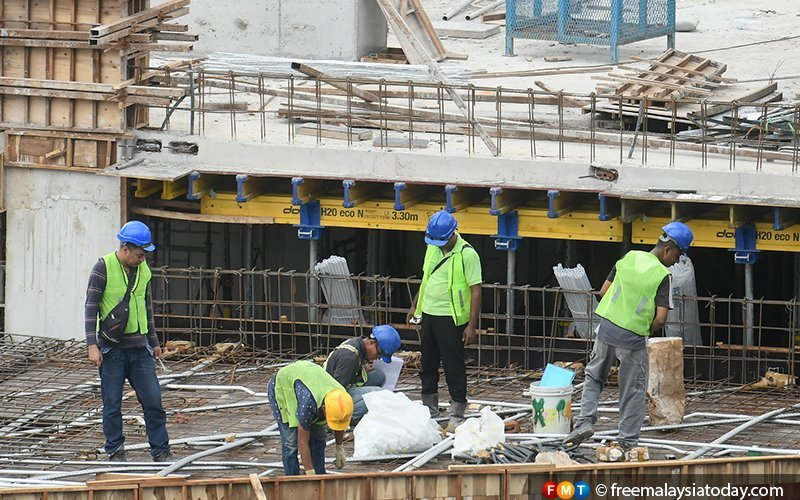Safety Helmet: (411, 202, 469, 271), (108, 210, 163, 282), (646, 213, 709, 273), (364, 318, 411, 381), (315, 379, 360, 442)
